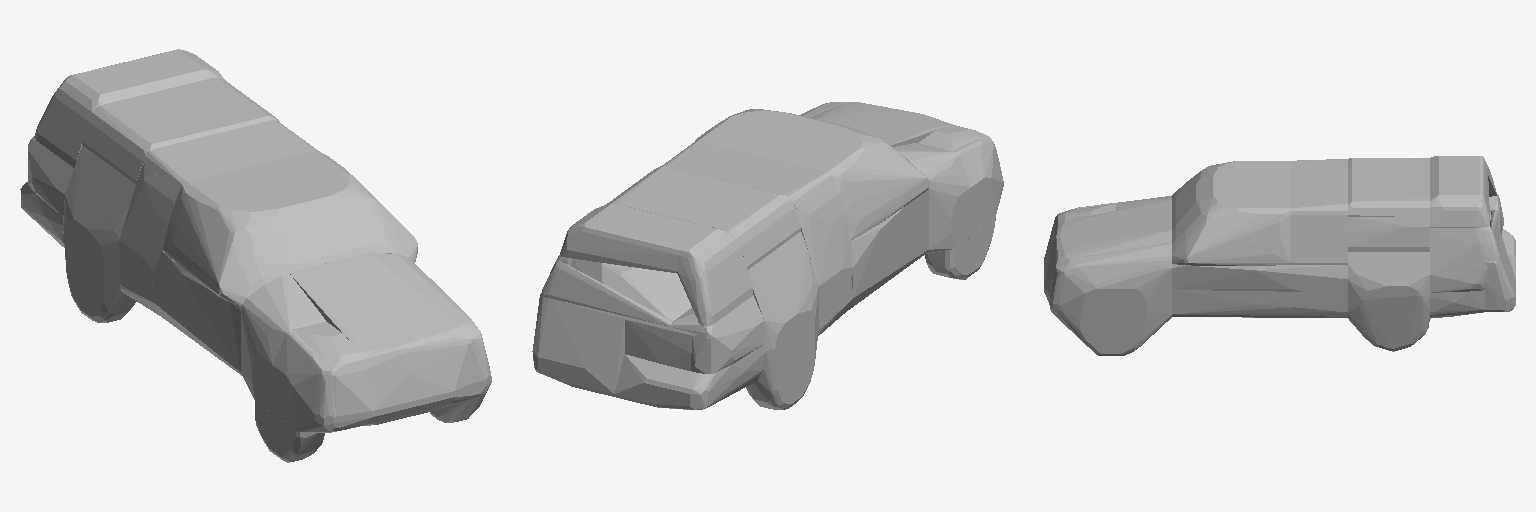
URDF robot description (root):
<robot name="root">
  <link name="link_001">
    <visual>
      <origin xyz="0 0 0" rpy="0 0 0"/>
      <geometry>
        <mesh filename="decomposed_006.obj" scale="1.0000E+00 1.0000E+00 1.0000E+00"/>
      </geometry>
      <material name="">
        <color rgba="7.50E-01 7.50E-01 7.50E-01 1"/>
      </material>
    </visual>
    <collision>
      <origin xyz="0 0 0" rpy="0 0 0"/>
      <geometry>
        <mesh filename="decomposed_006.obj" scale="1.0000E+00 1.0000E+00 1.0000E+00"/>
      </geometry>
    </collision>
  </link>
</robot>

--- What the picture shows (computed from the rendered views, not written in the file) ---
3 views of the same robot in one strip: view 1: azimuth 30°, elevation 25°; view 2: azimuth 150°, elevation 25°; view 3: azimuth 270°, elevation 25° (orthographic).
Robot: root — 1 links, 0 joints (none); root link link_001; default pose: all joints at 0.
Links seen in each view (by area): view 1: link_001; view 2: link_001; view 3: link_001.
Link boxes in pixels (box(x1,y1,x2,y2)): link_001: box(20, 49, 491, 462); link_001: box(532, 102, 1003, 409); link_001: box(1044, 156, 1515, 355).
Size in the robot's own frame: 0.0415 by 0.1123 by 0.0391 metres.
1 mesh visuals loaded from 1 distinct referenced files (1 OBJ).